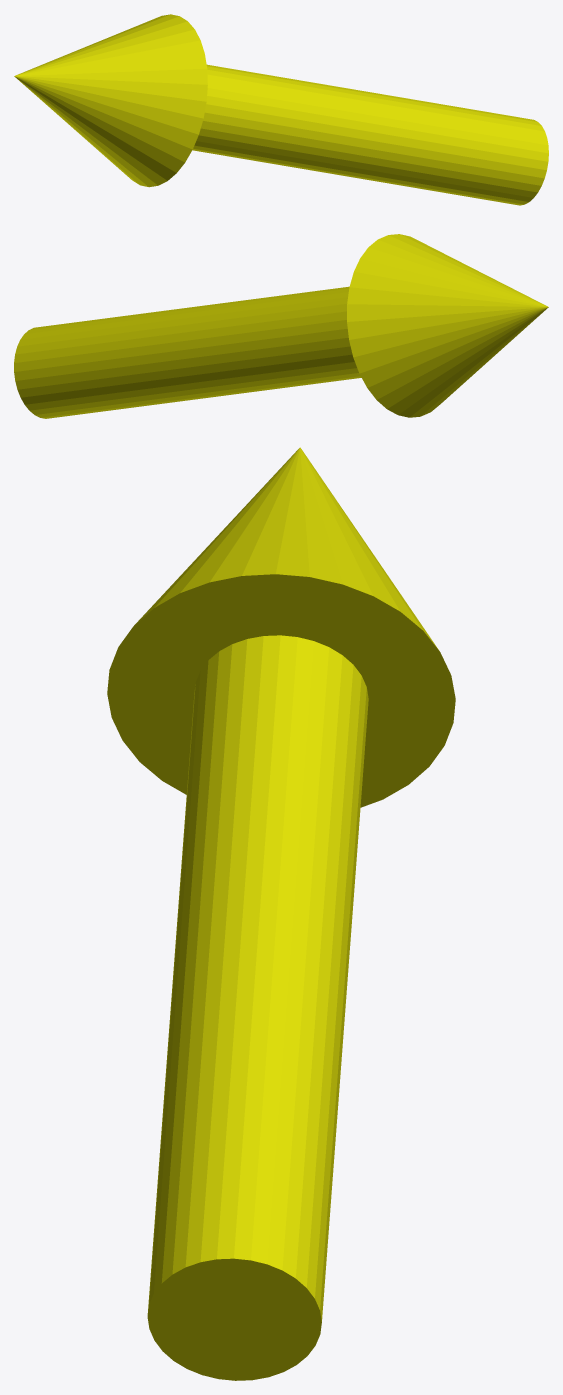
Rendered from forcemap.glb.
The picture shows the model from 3 angles, top to bottom: view 1: azimuth 30°, elevation 25°; view 2: azimuth 150°, elevation 25°; view 3: azimuth 270°, elevation 25°; orthographic projection. The views are drawn at different scales.
Visible parts, largest first — view 1: world; view 2: world; view 3: world.
Part boxes in pixels (left/top/right/bottom): world: left=14, top=14, right=548, bottom=205; world: left=14, top=234, right=548, bottom=418; world: left=107, top=447, right=455, bottom=1380.
Bounding box in the file's own units: 0.0269 × 0.0127 × 0.00798.
